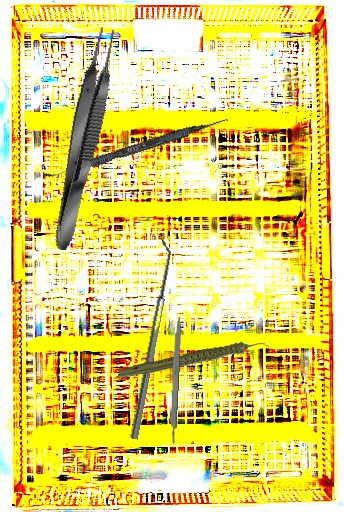Handpiece: (118, 336, 269, 385)
Scalpel Handle: (167, 315, 183, 447)
Spatula Surgical: (43, 112, 229, 185), (122, 238, 177, 440)
Tissue Forceps: (44, 25, 124, 253)
